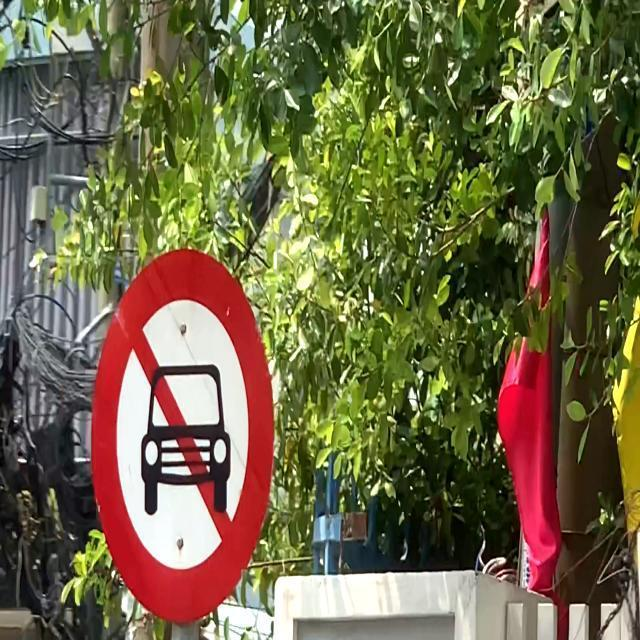103a-cam-oto: (88, 252, 274, 624)
